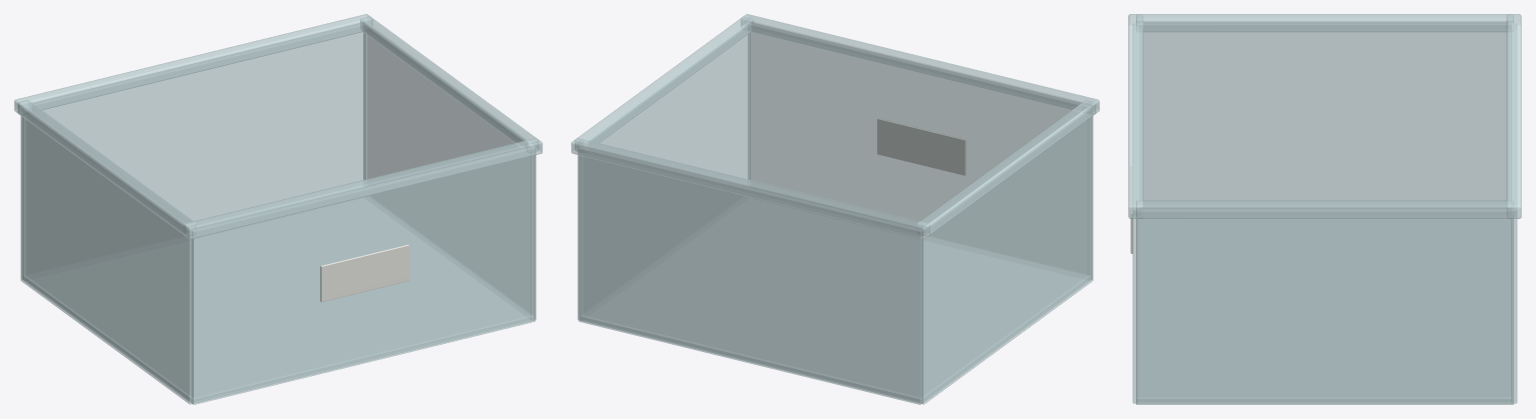
File: bin.glb
The picture shows the model from 3 angles, left to right: view 1: azimuth 30°, elevation 25°; view 2: azimuth 150°, elevation 25°; view 3: azimuth 270°, elevation 25°; orthographic projection. The views are drawn at different scales.
Visible parts, largest first — view 1: back_cabinet_0__bin0_-1__end-1, back_cabinet_0__bin0_-1__end1, back_cabinet_0__bin0_-1__base, back_cabinet_0__bin0_-1__side-1, back_cabinet_0__bin0_-1__side1, back_cabinet_0__bin0_-1__rimx-1, back_cabinet_0__bin0_-1__rimx1, back_cabinet_0__bin0_-1__rimy-1, back_cabinet_0__bin0_-1__rimy1, back_cabinet_0__bin0_-1__label; view 2: back_cabinet_0__bin0_-1__end1, back_cabinet_0__bin0_-1__base, back_cabinet_0__bin0_-1__end-1, back_cabinet_0__bin0_-1__side-1, back_cabinet_0__bin0_-1__side1, back_cabinet_0__bin0_-1__rimx1, back_cabinet_0__bin0_-1__rimx-1, back_cabinet_0__bin0_-1__rimy-1, back_cabinet_0__bin0_-1__rimy1, back_cabinet_0__bin0_-1__label; view 3: back_cabinet_0__bin0_-1__side1, back_cabinet_0__bin0_-1__side-1, back_cabinet_0__bin0_-1__base, back_cabinet_0__bin0_-1__rimy1, back_cabinet_0__bin0_-1__rimy-1, back_cabinet_0__bin0_-1__rimx1, back_cabinet_0__bin0_-1__rimx-1, back_cabinet_0__bin0_-1__end1, back_cabinet_0__bin0_-1__end-1.
Part boxes in pixels (x1=…): back_cabinet_0__bin0_-1__end-1: x1=191, y1=147, x2=535, y2=404; back_cabinet_0__bin0_-1__end1: x1=22, y1=23, x2=365, y2=279; back_cabinet_0__bin0_-1__base: x1=23, y1=198, x2=533, y2=403; back_cabinet_0__bin0_-1__side-1: x1=20, y1=107, x2=193, y2=404; back_cabinet_0__bin0_-1__side1: x1=363, y1=23, x2=536, y2=320; back_cabinet_0__bin0_-1__rimx-1: x1=184, y1=138, x2=542, y2=239; back_cabinet_0__bin0_-1__rimx1: x1=14, y1=14, x2=372, y2=114; back_cabinet_0__bin0_-1__rimy-1: x1=18, y1=100, x2=196, y2=236; back_cabinet_0__bin0_-1__rimy1: x1=360, y1=16, x2=538, y2=152; back_cabinet_0__bin0_-1__label: x1=320, y1=244, x2=409, y2=302; back_cabinet_0__bin0_-1__end1: x1=578, y1=147, x2=922, y2=404; back_cabinet_0__bin0_-1__base: x1=580, y1=198, x2=1090, y2=403; back_cabinet_0__bin0_-1__end-1: x1=748, y1=23, x2=1091, y2=279; back_cabinet_0__bin0_-1__side-1: x1=920, y1=107, x2=1093, y2=404; back_cabinet_0__bin0_-1__side1: x1=577, y1=23, x2=750, y2=320; back_cabinet_0__bin0_-1__rimx1: x1=571, y1=138, x2=929, y2=239; back_cabinet_0__bin0_-1__rimx-1: x1=741, y1=14, x2=1099, y2=114; back_cabinet_0__bin0_-1__rimy-1: x1=917, y1=100, x2=1095, y2=236; back_cabinet_0__bin0_-1__rimy1: x1=575, y1=16, x2=753, y2=152; back_cabinet_0__bin0_-1__label: x1=877, y1=118, x2=965, y2=175; back_cabinet_0__bin0_-1__side1: x1=1136, y1=209, x2=1513, y2=404; back_cabinet_0__bin0_-1__side-1: x1=1136, y1=22, x2=1513, y2=207; back_cabinet_0__bin0_-1__base: x1=1136, y1=219, x2=1513, y2=403; back_cabinet_0__bin0_-1__rimy1: x1=1136, y1=200, x2=1513, y2=218; back_cabinet_0__bin0_-1__rimy-1: x1=1136, y1=14, x2=1513, y2=32; back_cabinet_0__bin0_-1__rimx1: x1=1506, y1=14, x2=1521, y2=218; back_cabinet_0__bin0_-1__rimx-1: x1=1128, y1=14, x2=1143, y2=218; back_cabinet_0__bin0_-1__end1: x1=1511, y1=24, x2=1517, y2=403; back_cabinet_0__bin0_-1__end-1: x1=1132, y1=24, x2=1138, y2=403.
Size of the model in its own units: 0.362 by 0.176 by 0.312.
